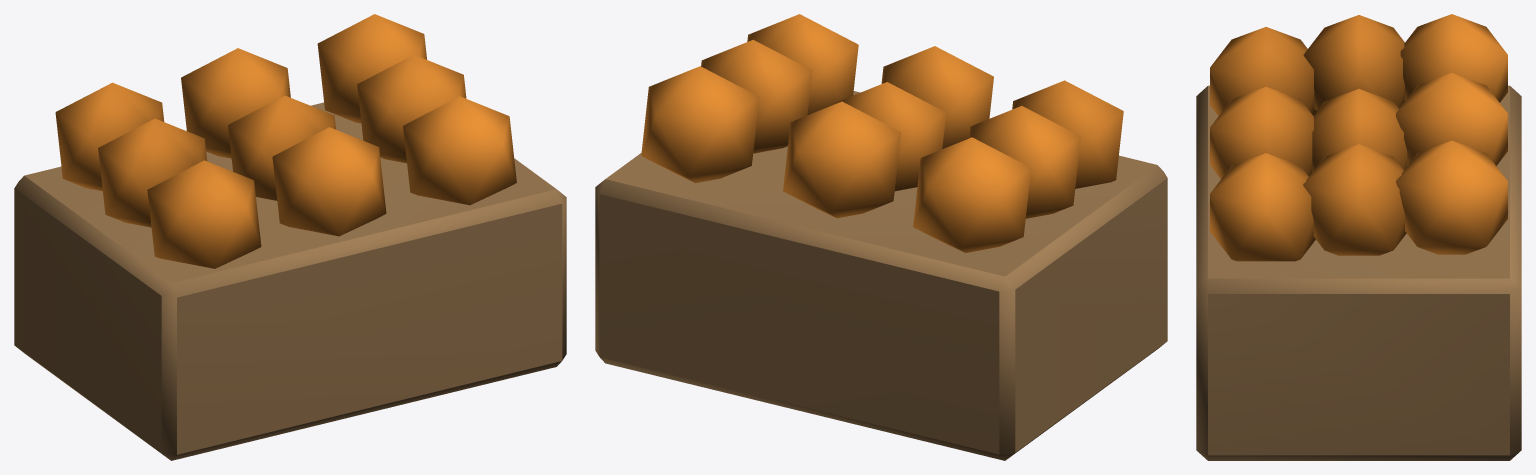
File: orange_crate.glb
3 renders of one model, left to right at view 1: azimuth 30°, elevation 25°; view 2: azimuth 150°, elevation 25°; view 3: azimuth 270°, elevation 25°, orthographic. The views are drawn at different scales.
Visible parts, largest first — view 1: orange_crate_mesh; view 2: orange_crate_mesh; view 3: orange_crate_mesh.
Part boxes in pixels (x1,y1,x2,y2): orange_crate_mesh: [14, 14, 566, 460]; orange_crate_mesh: [595, 14, 1167, 460]; orange_crate_mesh: [1196, 14, 1521, 460].
Bounding box in the file's own units: 0.62 × 0.4117 × 0.42.
